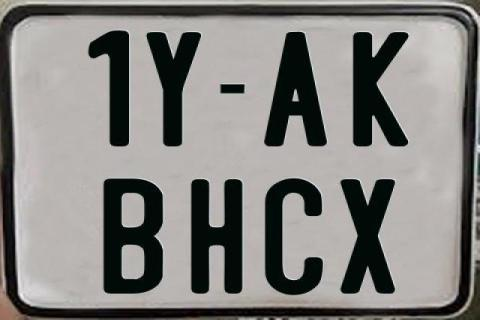0: (87, 29, 131, 149)
A: (261, 30, 327, 146)
B: (102, 177, 164, 292)
C: (262, 176, 326, 298)
H: (190, 178, 245, 298)
K: (353, 31, 415, 148)
X: (339, 179, 397, 297)
Y: (143, 31, 204, 145)
